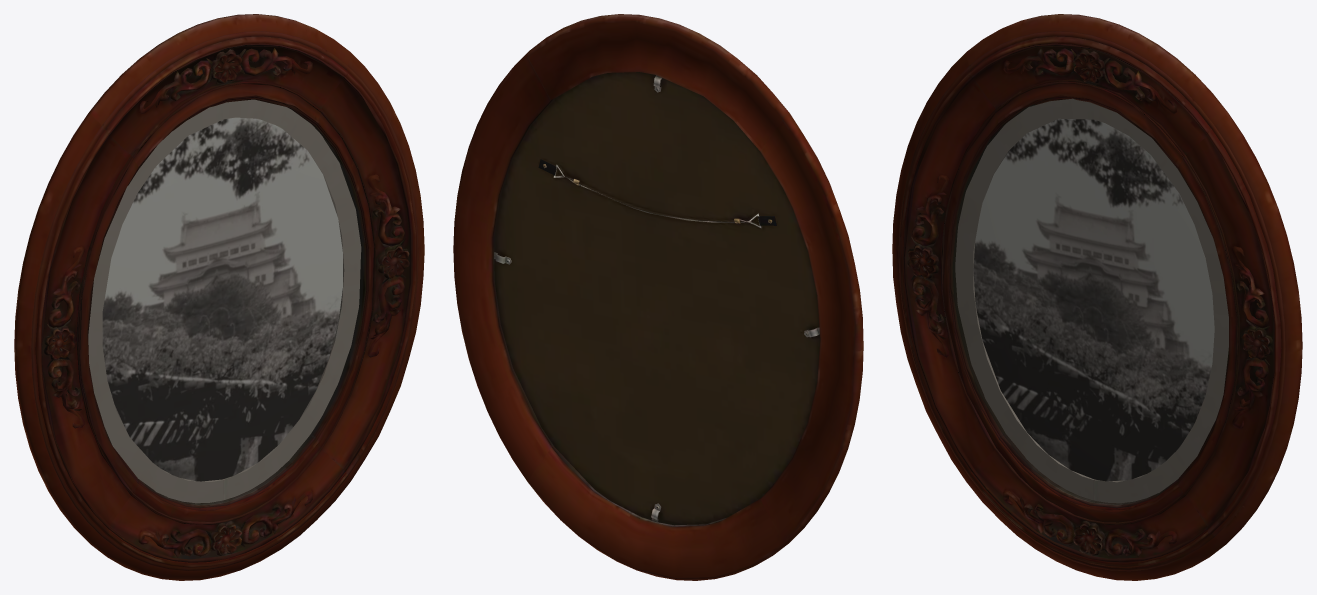
Rendered from hanging_picture_frame_03.glb.
3 views of the same model, side by side, from view 1: azimuth 30°, elevation 25°; view 2: azimuth 150°, elevation 25°; view 3: azimuth 330°, elevation 25° (orthographic).
Visible parts, largest first — view 1: hanging_picture_frame_03, hanging_picture_frame_03_glass; view 2: hanging_picture_frame_03; view 3: hanging_picture_frame_03, hanging_picture_frame_03_glass.
Boxes of the visible parts, x1,y1,x2,y2 form: hanging_picture_frame_03: (14, 14, 424, 580); hanging_picture_frame_03_glass: (88, 100, 363, 504); hanging_picture_frame_03: (453, 14, 863, 580); hanging_picture_frame_03: (892, 14, 1302, 580); hanging_picture_frame_03_glass: (953, 99, 1228, 504).
Size of the model in its own units: 0.3847 by 0.502 by 0.0318.
3 materials, 2 textured.
